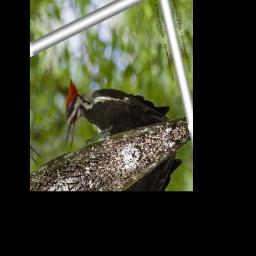Woodpecker: (51, 36, 173, 170)
